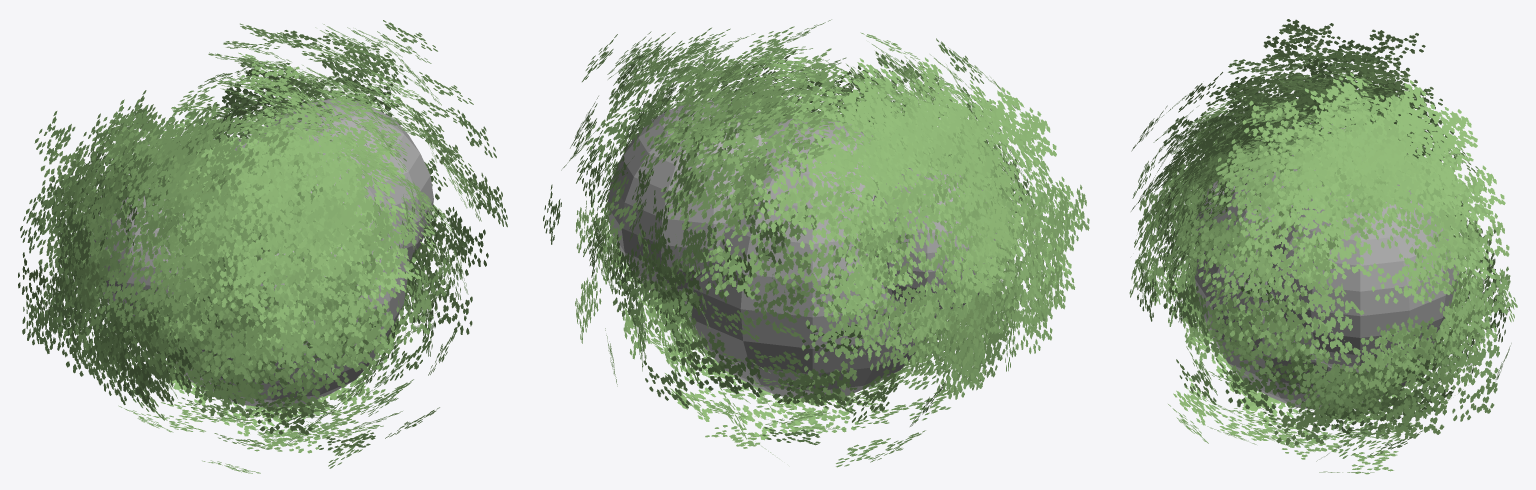
Rendered from Shrub.fbx.
3 renders of one model, left to right at view 1: azimuth 30°, elevation 25°; view 2: azimuth 150°, elevation 25°; view 3: azimuth 270°, elevation 25°, orthographic. The views are drawn at different scales.
Visible parts, largest first — view 1: shrubPlane, shrub; view 2: shrubPlane, shrub; view 3: shrubPlane, shrub.
Part boxes in pixels (<box>): shrubPlane: <box>18,20,507,473</box>; shrub: <box>90,98,433,407</box>; shrubPlane: <box>543,19,1089,467</box>; shrub: <box>607,100,1000,398</box>; shrubPlane: <box>1129,19,1517,474</box>; shrub: <box>1194,122,1459,409</box>.
Size of the model in its own units: 0.6005 by 0.4871 by 0.481.
